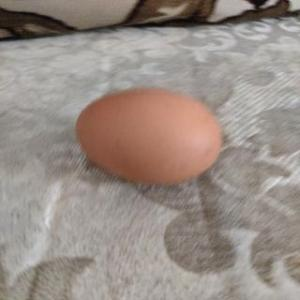egg: (72, 87, 229, 186)
